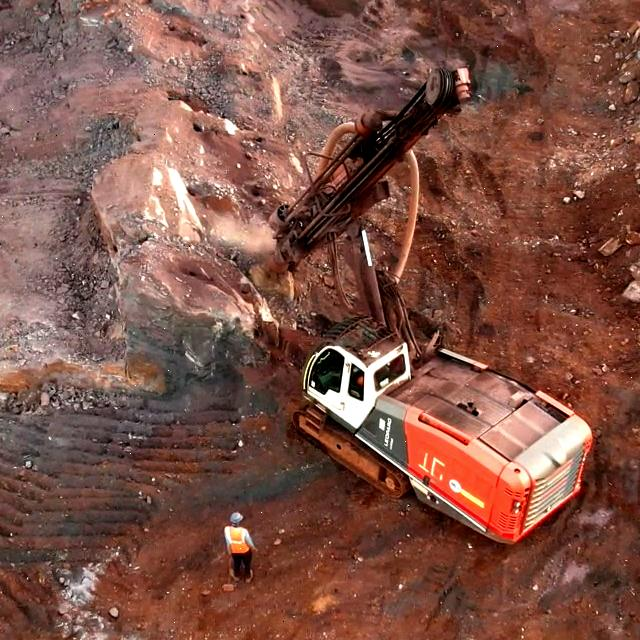Blast rig: (324, 346, 583, 516)
person: (221, 512, 257, 585)
